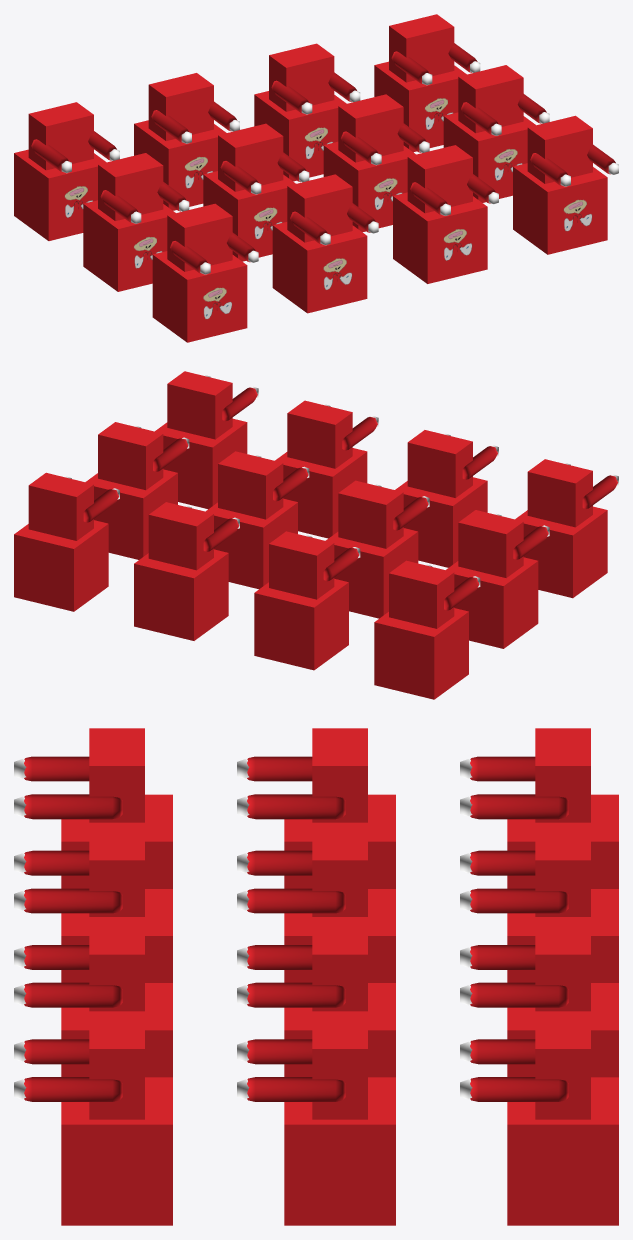
File: nuke.obj
The picture shows the model from 3 angles, top to bottom: view 1: azimuth 30°, elevation 25°; view 2: azimuth 150°, elevation 25°; view 3: azimuth 270°, elevation 25°; orthographic projection. The views are drawn at different scales.
Parts seen in each view (by area): view 1: Cube.16, Cube.22, Cube.20, Cube.18, Cube.14, Cube.6, Cube.10, Cube.2, Cube.8, Cube.4, Cube.12, Cube (+24 smaller); view 2: Cube.6, Cube, Cube.4, Cube.2, Cube.14, Cube.22, Cube.18, Cube.16, Cube.20, Cube.8, Cube.12, Cube.10 (+24 smaller); view 3: Cube.20, Cube.12, Cube.4, Cube.21, Cube.13, Cube.5, Cube.23, Cube.15, Cube.19, Cube.11, Cube.7, Cube.3 (+36 smaller).
Boxes of the visible parts, x1=… form: Cube.16: x1=272, y1=222, x2=367, y2=313; Cube.22: x1=152, y1=251, x2=247, y2=342; Cube.20: x1=513, y1=163, x2=607, y2=254; Cube.18: x1=393, y1=192, x2=487, y2=283; Cube.14: x1=83, y1=200, x2=175, y2=291; Cube.6: x1=14, y1=149, x2=106, y2=240; Cube.10: x1=323, y1=141, x2=415, y2=232; Cube.2: x1=254, y1=91, x2=346, y2=181; Cube.8: x1=203, y1=171, x2=295, y2=261; Cube.4: x1=374, y1=61, x2=466, y2=152; Cube.12: x1=443, y1=112, x2=535, y2=202; Cube: x1=134, y1=120, x2=226, y2=210; Cube.6: x1=374, y1=608, x2=468, y2=699; Cube: x1=254, y1=579, x2=348, y2=670; Cube.4: x1=14, y1=520, x2=108, y2=611; Cube.2: x1=134, y1=549, x2=228, y2=640; Cube.14: x1=446, y1=557, x2=538, y2=648; Cube.22: x1=515, y1=506, x2=607, y2=598; Cube.18: x1=275, y1=448, x2=367, y2=538; Cube.16: x1=395, y1=477, x2=487, y2=567; Cube.20: x1=155, y1=418, x2=247, y2=509; Cube.8: x1=325, y1=528, x2=418, y2=618; Cube.12: x1=85, y1=469, x2=177, y2=559; Cube.10: x1=205, y1=498, x2=297, y2=589; Cube.20: x1=61, y1=1077, x2=172, y2=1225; Cube.12: x1=284, y1=1077, x2=395, y2=1225; Cube.4: x1=507, y1=1077, x2=618, y2=1225; Cube.21: x1=89, y1=1011, x2=144, y2=1119; Cube.13: x1=312, y1=1011, x2=367, y2=1119; Cube.5: x1=535, y1=1011, x2=590, y2=1119; Cube.23: x1=89, y1=728, x2=144, y2=822; Cube.15: x1=312, y1=728, x2=367, y2=822; Cube.19: x1=89, y1=917, x2=144, y2=1011; Cube.11: x1=312, y1=917, x2=367, y2=1011; Cube.7: x1=535, y1=728, x2=590, y2=822; Cube.3: x1=535, y1=917, x2=590, y2=1011.
Bounding box in the file's own units: 70 × 17.02 × 54.25.
Materials: 3 (3 with a texture image).
